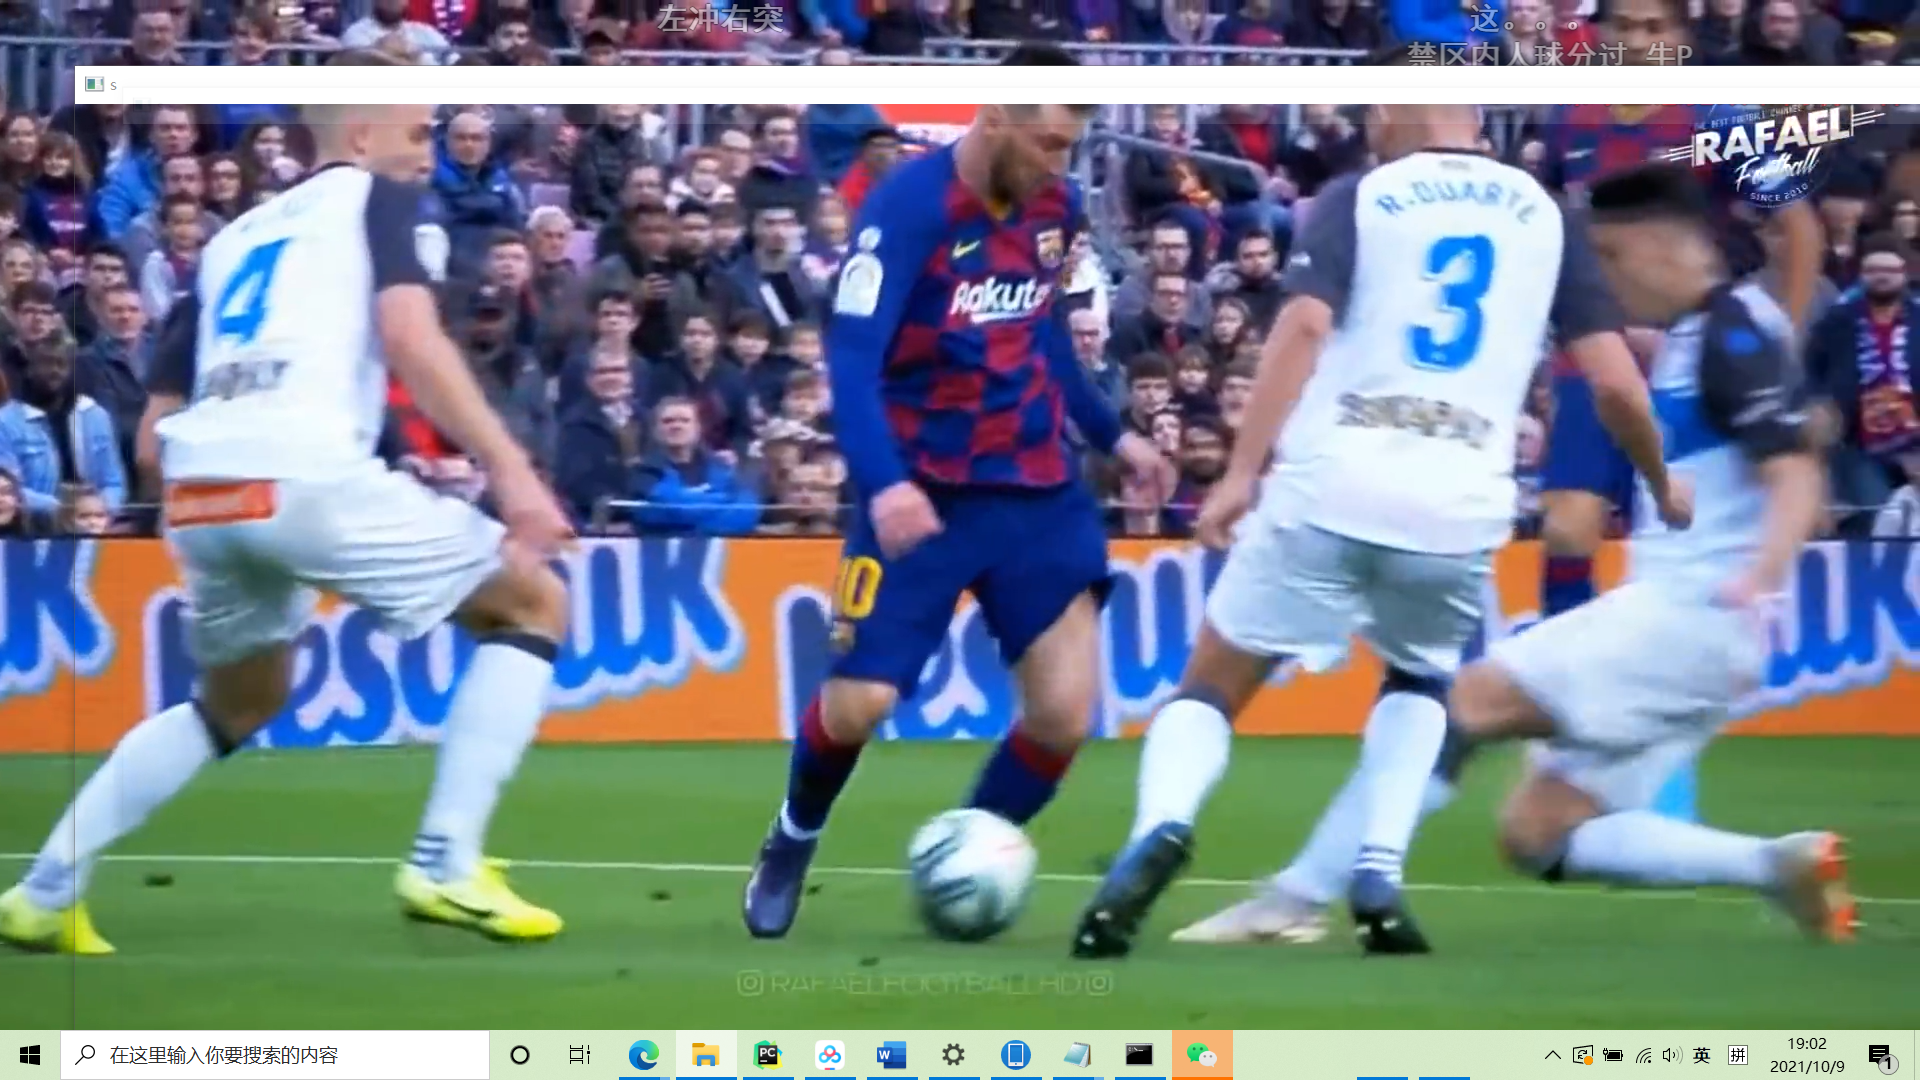ft: (903, 802, 1036, 940)
